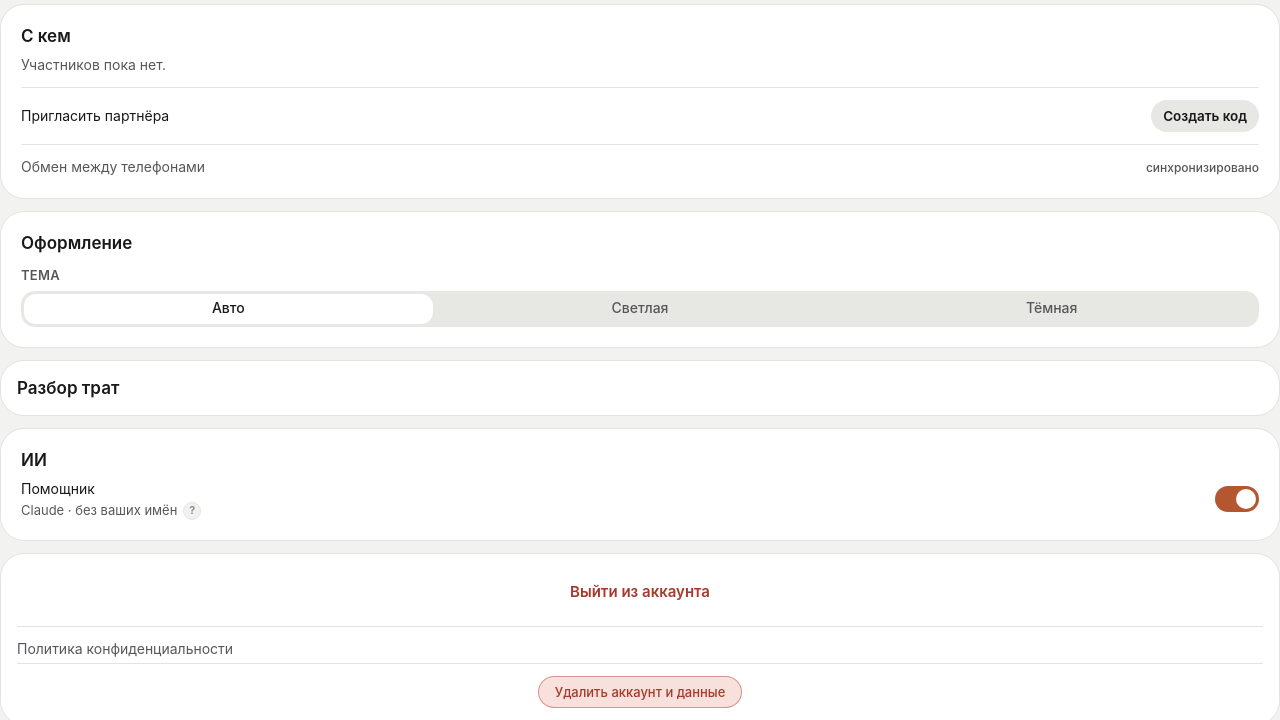
Test: AI-05: лист согласия › настройки: выключить — «нет» с v: 3; подсказка называет новые пункты и «приходит сам»
Click the switch named "Помощник".
click(1237, 499)  # box [1215, 486, 1259, 512]
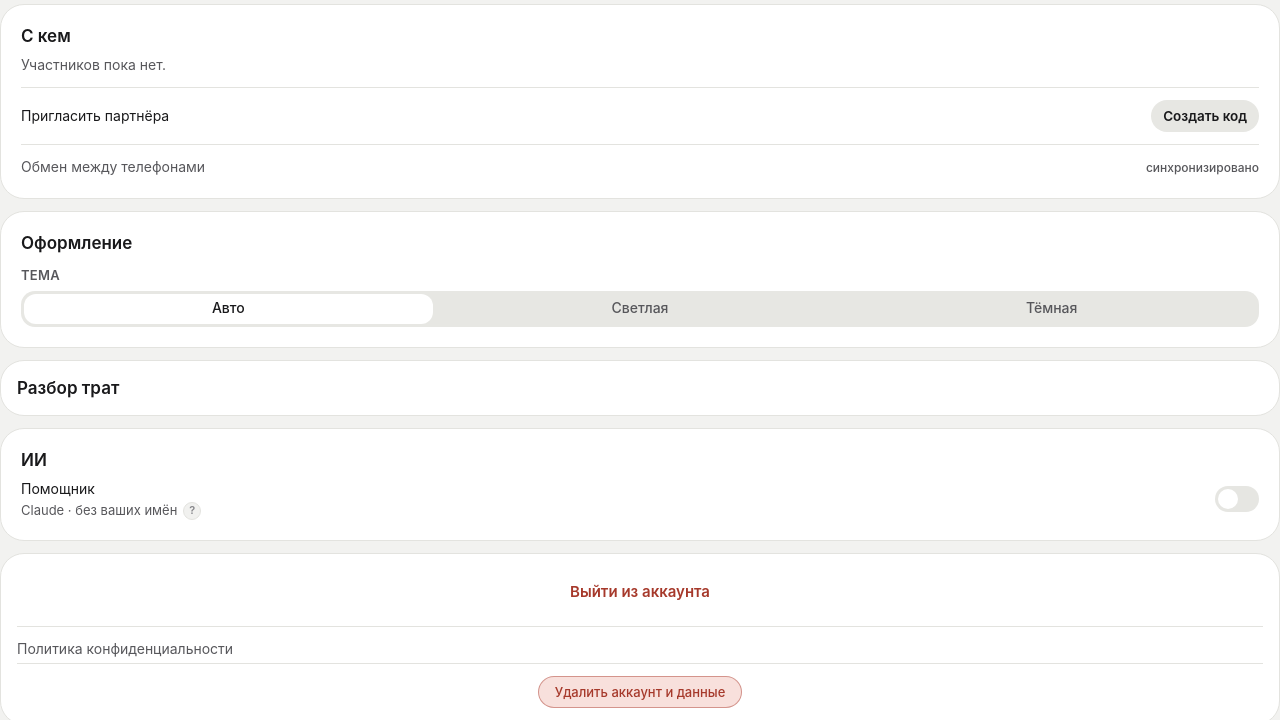
Click the button named "Что уходит".
click(192, 510)  # box [183, 502, 201, 520]
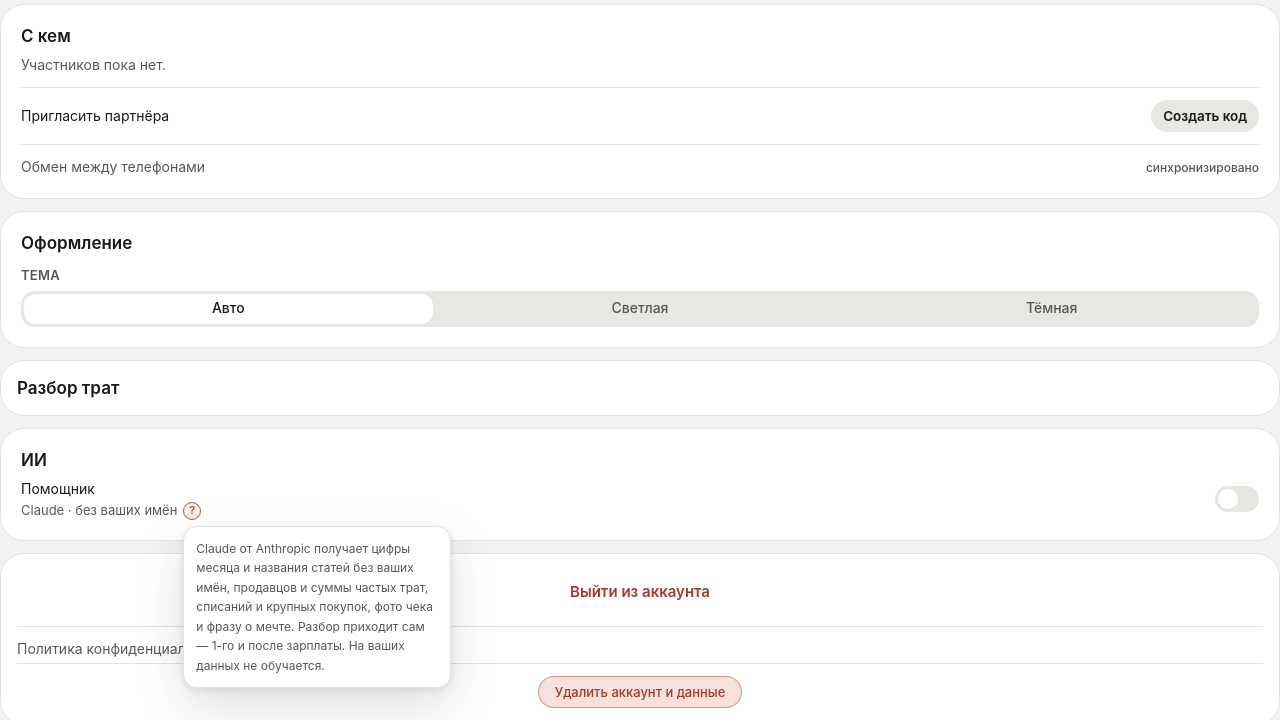
Now the element that starts with "Помощник" shows "фото чека и фразу о мечте.", box [196, 540, 433, 672]
Now the element that starts with "Помощник" shows "Разбор приходит сам — 1-го и после зарплаты.", box [196, 540, 433, 672]
